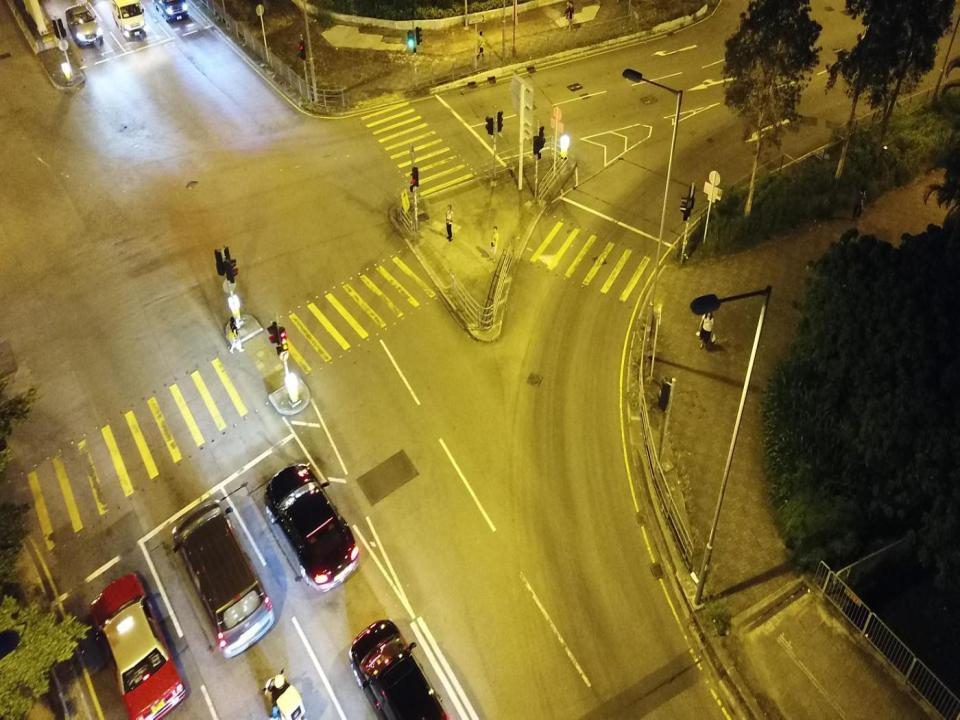car: (89, 572, 187, 719), (264, 462, 359, 592), (349, 619, 453, 719), (65, 3, 103, 46), (152, 0, 188, 23)
van: (172, 499, 276, 658), (108, 0, 146, 37)
